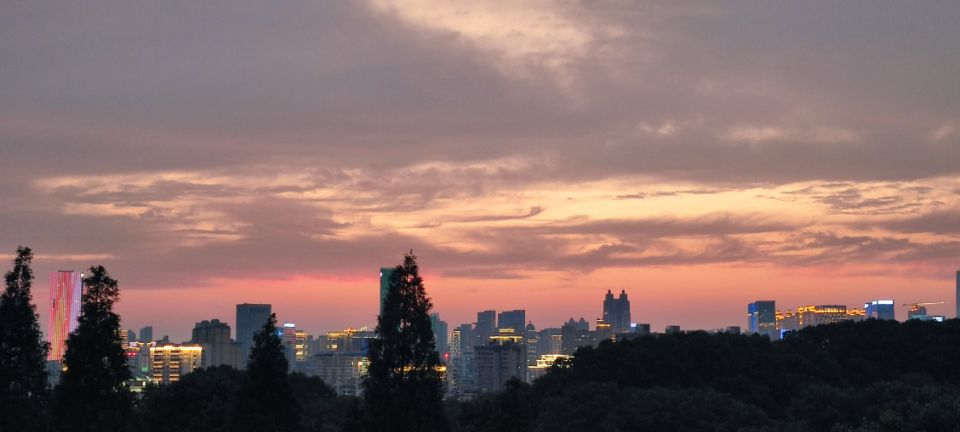Stratus: (4, 1, 960, 162), (10, 171, 953, 281)
